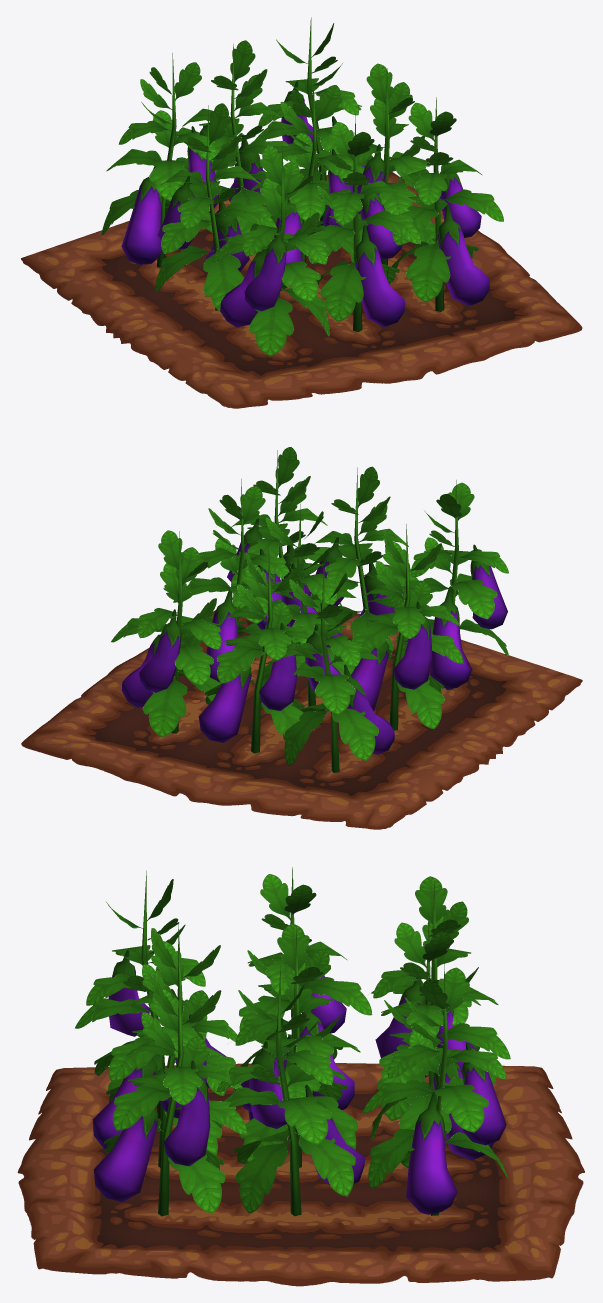
File: EggPlant_Field_Lv3.FBX
3 views of the same model, one above another, from view 1: azimuth 30°, elevation 25°; view 2: azimuth 150°, elevation 25°; view 3: azimuth 270°, elevation 25° (orthographic). The views are drawn at different scales.
Visible parts, largest first — view 1: EggPlant_Field_Lv3; view 2: EggPlant_Field_Lv3; view 3: EggPlant_Field_Lv3.
Part boxes in pixels (x1,y1,x2,y2): EggPlant_Field_Lv3: [21, 17, 582, 408]; EggPlant_Field_Lv3: [21, 447, 582, 829]; EggPlant_Field_Lv3: [17, 867, 584, 1286].
Bounding box in the file's own units: 274 × 145 × 296.
